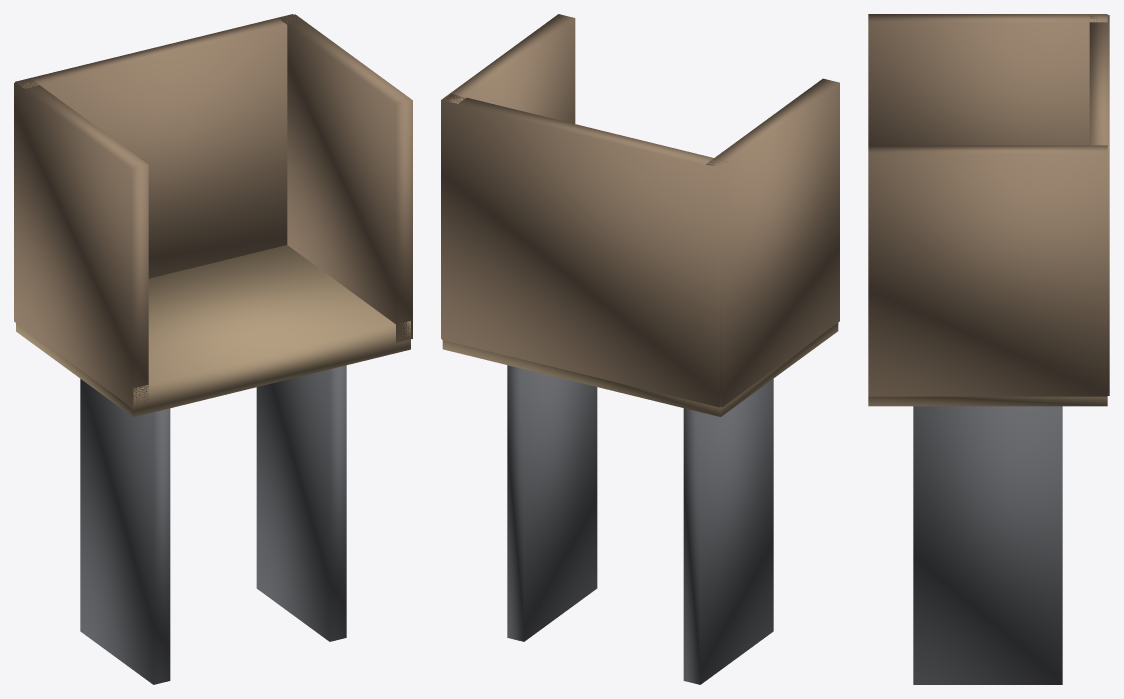
The model's file is study_carrel__tall.glb.
The picture shows the model from 3 angles, left to right: view 1: azimuth 30°, elevation 25°; view 2: azimuth 150°, elevation 25°; view 3: azimuth 270°, elevation 25°; orthographic projection.
Parts seen in each view (by area): view 1: world; view 2: world; view 3: world.
Part boxes in pixels (x1,y1,x2,y2): world: (14, 14, 412, 684); world: (441, 14, 839, 684); world: (868, 14, 1109, 684).
Size of the model in its own units: 0.83 by 1.53 by 0.605.
